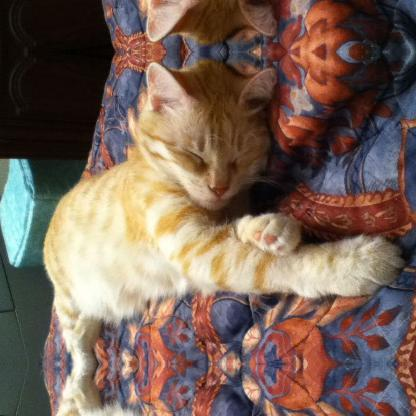Cat: (40, 55, 408, 362)
